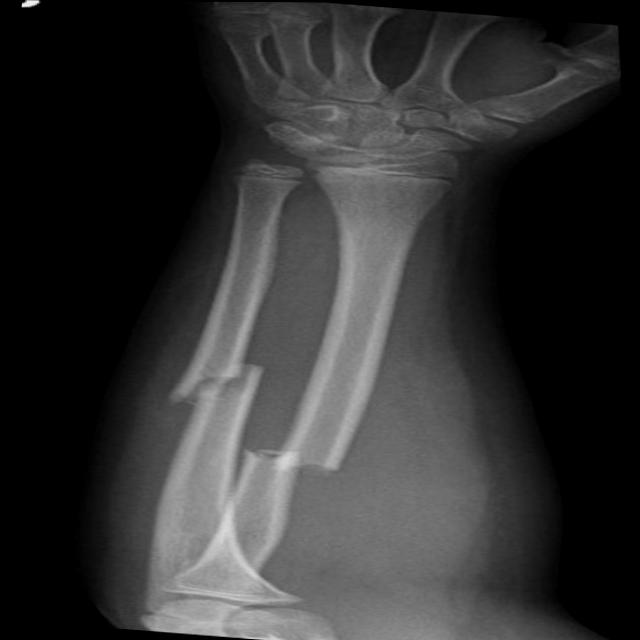Oblique Displaced: (130, 336, 304, 423)
Transverse: (214, 429, 387, 493)
